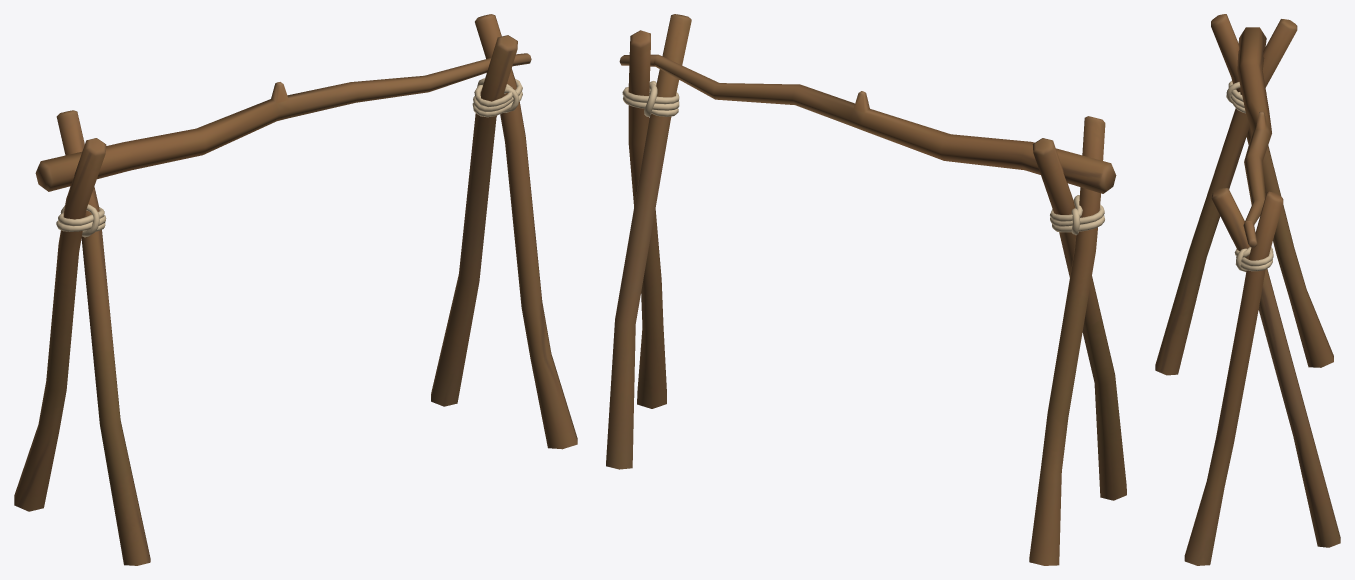
The model's file is CampCook.fbx.
3 renders of one model, left to right at view 1: azimuth 30°, elevation 25°; view 2: azimuth 150°, elevation 25°; view 3: azimuth 270°, elevation 25°, orthographic. The views are drawn at different scales.
Visible parts, largest first — view 1: Cylinder.032; view 2: Cylinder.032; view 3: Cylinder.032.
Boxes of the visible parts, x1,y1,x2,y2 form: Cylinder.032: (14, 14, 577, 565); Cylinder.032: (606, 14, 1126, 565); Cylinder.032: (1155, 14, 1340, 565).
Size of the model in its own units: 211 by 163 by 77.01.
Materials: 1 (1 with a texture image).
